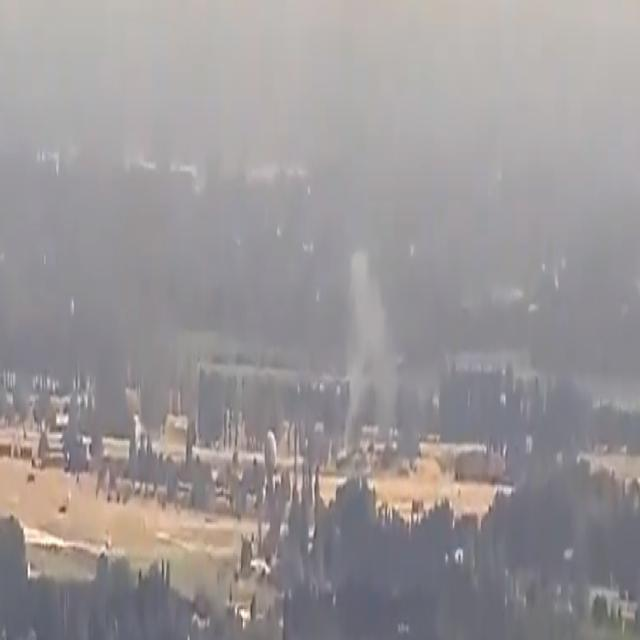Smoke: (341, 248, 399, 454)
